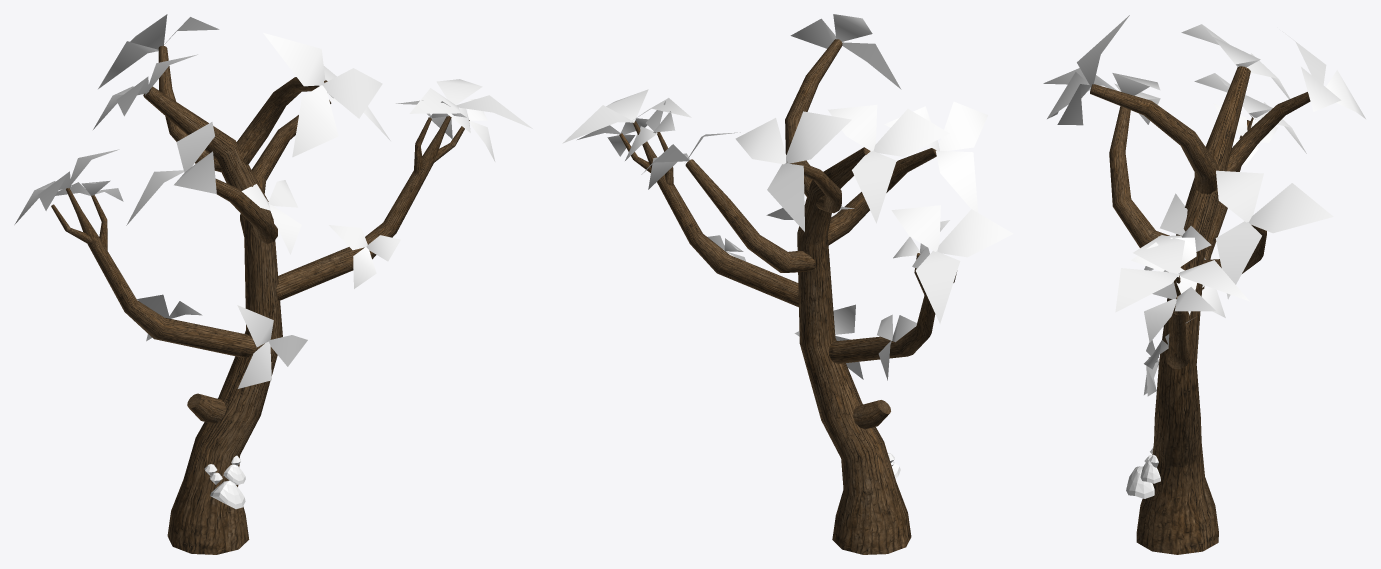
The model's file is tree01.fbx.
3 renders of one model, left to right at view 1: azimuth 30°, elevation 25°; view 2: azimuth 150°, elevation 25°; view 3: azimuth 270°, elevation 25°, orthographic. The views are drawn at different scales.
Parts seen in each view (by area): view 1: Mesh; view 2: Mesh; view 3: Mesh.
Boxes of the visible parts, <box> form: Mesh: <box>14,14,532,554</box>; Mesh: <box>562,14,1013,554</box>; Mesh: <box>1043,15,1365,554</box>.
Bounding box in the file's own units: 761 × 830 × 452.
